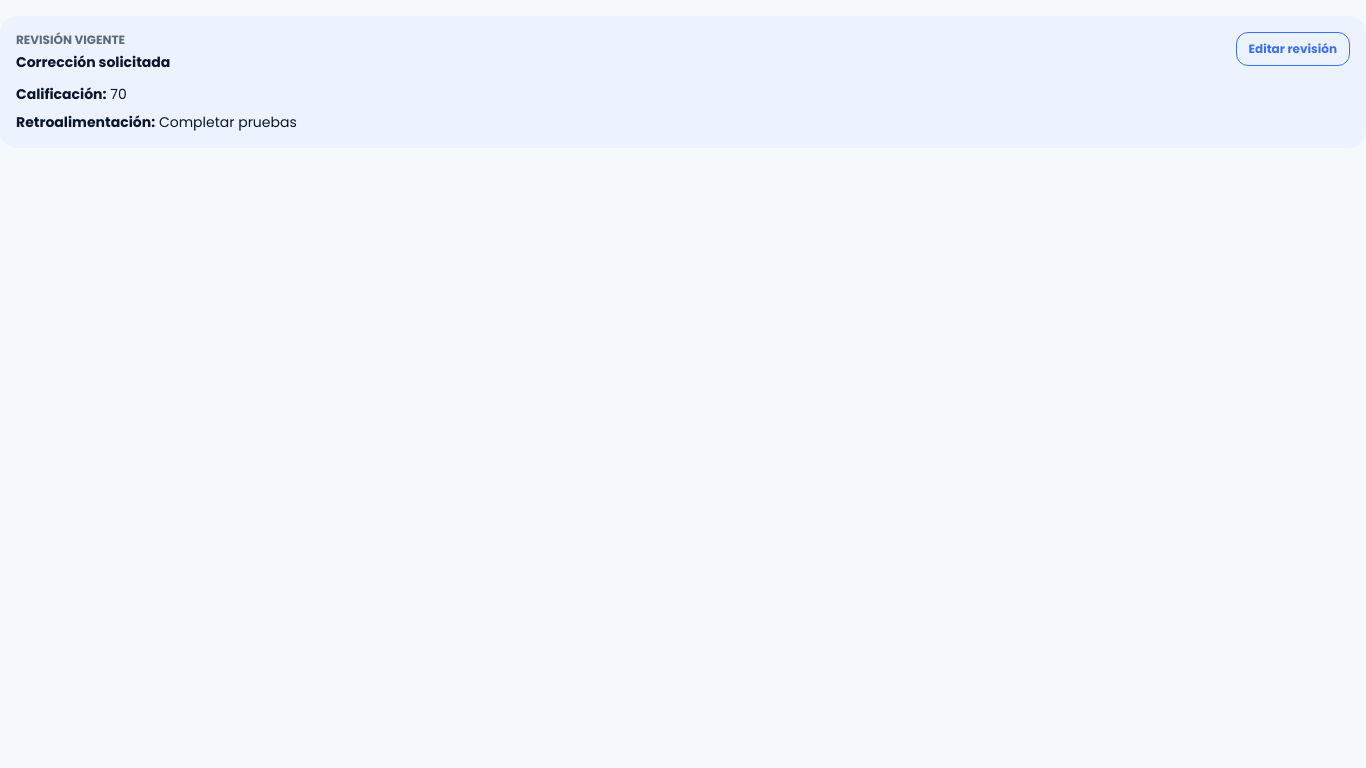
Test: acciones de revisión administrativa › edita mediante una sola solicitud y conserva los valores vigentes
This screenshot has width=1366, height=768.
Later steps or results of the test are not shown.
Step 1. Click the button "Editar revisión" → x=1293, y=49, box 1236,32 -> 1350,66
(page scrolled)
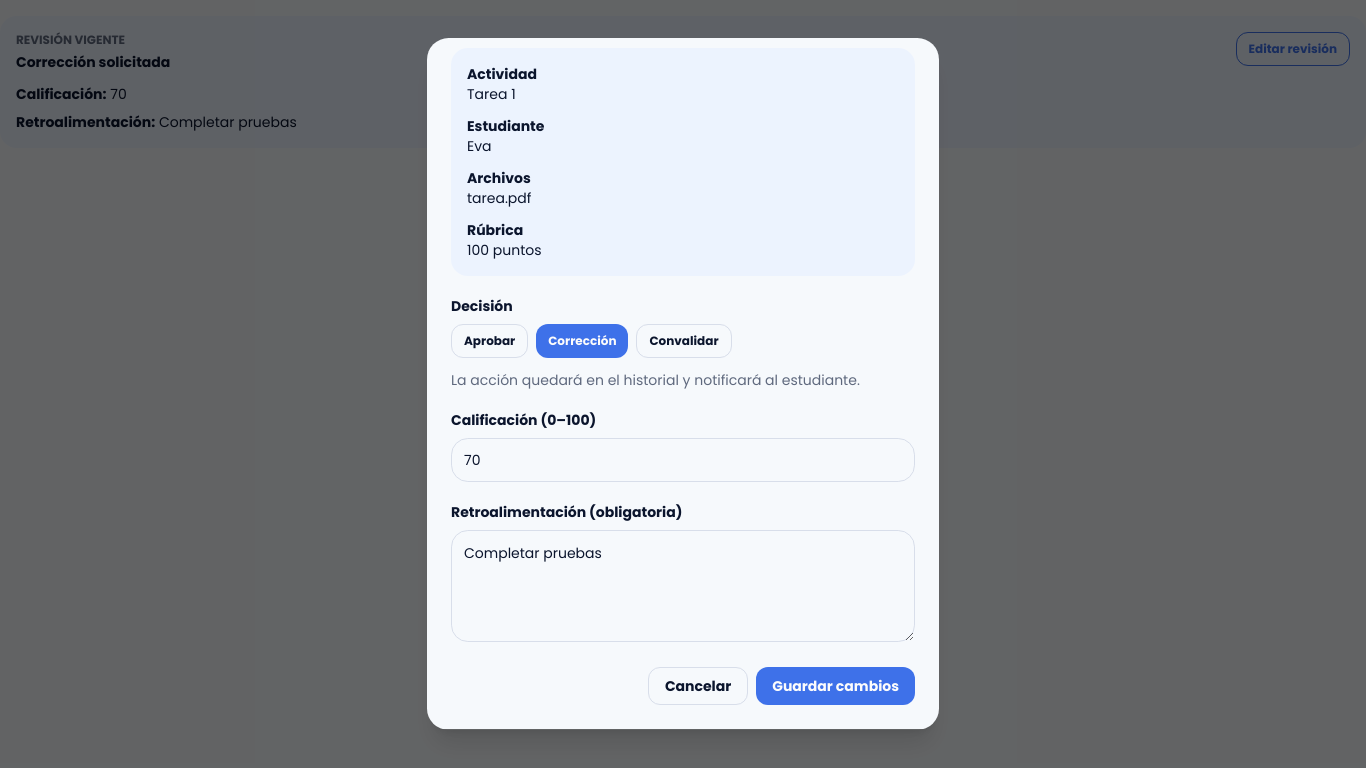
Expected: the number field labelled "Calificación (0–100)" holds "70", 451,438 -> 915,482
Expected: the text box labelled "Retroalimentación (obligatoria)" holds "Completar pruebas", 451,530 -> 915,642
